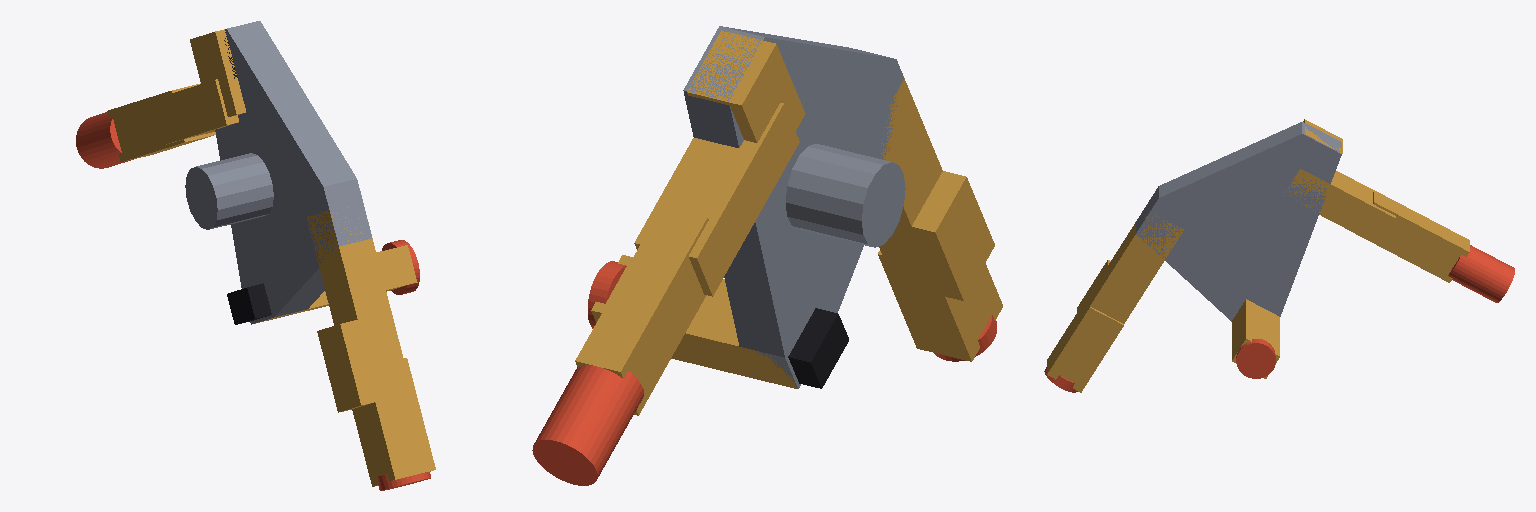
robot.urdf — g0050_c06:
<robot name="g0050_c06">
  <link name="palm">
    <visual name="palm_palm1">
      <origin xyz="0 0 0" rpy="0 0 0" />
      <geometry>
        <mesh filename="palm_palm1.obj" />
      </geometry>
      <material name="palm_palm1_mat">
        <color rgba="0.55 0.57 0.62 1" />
      </material>
    </visual>
    <collision>
      <origin xyz="0 0 0" rpy="0 0 0" />
      <geometry>
        <mesh filename="palm_palm1.obj" />
      </geometry>
    </collision>
    <visual name="palm_mount2">
      <origin xyz="0 0 0" rpy="0 0 0" />
      <geometry>
        <mesh filename="palm_mount2.obj" />
      </geometry>
      <material name="palm_mount2_mat">
        <color rgba="0.55 0.57 0.62 1" />
      </material>
    </visual>
    <collision>
      <origin xyz="0 0 0" rpy="0 0 0" />
      <geometry>
        <mesh filename="palm_mount2.obj" />
      </geometry>
    </collision>
    <visual name="palm_motor3">
      <origin xyz="0 -0.07625 0.00649519053" rpy="1.57079633 -0.523598776 -1.57079633" />
      <geometry>
        <box size="0.029 0.034 0.02" />
      </geometry>
      <material name="palm_motor3_mat">
        <color rgba="0.15 0.15 0.17 1" />
      </material>
    </visual>
    <collision>
      <origin xyz="0 -0.07625 0.00649519053" rpy="1.57079633 -0.523598776 -1.57079633" />
      <geometry>
        <box size="0.029 0.034 0.02" />
      </geometry>
    </collision>
    <visual name="palm_motor4">
      <origin xyz="-0.007 -3.97715715e-19 -0.08" rpy="3.14159265 -0.523598776 -1.57079633" />
      <geometry>
        <box size="0.029 0.034 0.02" />
      </geometry>
      <material name="palm_motor4_mat">
        <color rgba="0.15 0.15 0.17 1" />
      </material>
    </visual>
    <collision>
      <origin xyz="-0.007 -3.97715715e-19 -0.08" rpy="3.14159265 -0.523598776 -1.57079633" />
      <geometry>
        <box size="0.029 0.034 0.02" />
      </geometry>
    </collision>
    <visual name="palm_motor5">
      <origin xyz="-0.0045 0.0467548095 0.0666996732" rpy="1.57079633 1.04719755 -1.57079633" />
      <geometry>
        <box size="0.029 0.034 0.02" />
      </geometry>
      <material name="palm_motor5_mat">
        <color rgba="0.15 0.15 0.17 1" />
      </material>
    </visual>
    <collision>
      <origin xyz="-0.0045 0.0467548095 0.0666996732" rpy="1.57079633 1.04719755 -1.57079633" />
      <geometry>
        <box size="0.029 0.034 0.02" />
      </geometry>
    </collision>
    <inertial>
      <origin xyz="-1.69313855e-19 -0.00843664004 0.00269412495" rpy="-1.57079633 1.00330801 -1.57079633" />
      <mass value="0.729566037" />
      <inertia ixx="0.000885453613" ixy="0" ixz="0" iyy="0.00151368086" iyz="0" izz="0.00232909613" />
    </inertial>
  </link>
  <link name="f0_link0">
    <visual name="f0_link0_link1">
      <origin xyz="0.03375 0 0" rpy="0 4.06369831e-17 0" />
      <geometry>
        <box size="0.0915 0.024 0.033" />
      </geometry>
      <material name="f0_link0_link1_mat">
        <color rgba="0.80 0.62 0.30 1" />
      </material>
    </visual>
    <collision>
      <origin xyz="0.03375 0 0" rpy="0 4.06369831e-17 0" />
      <geometry>
        <box size="0.0915 0.024 0.033" />
      </geometry>
    </collision>
    <inertial>
      <origin xyz="0.03375 0 0" rpy="0 0 0" />
      <mass value="0.126819" />
      <inertia ixx="1.75961363e-05" ixy="0" ixz="0" iyy="9.99888553e-05" iyz="0" izz="9.45673431e-05" />
    </inertial>
  </link>
  <link name="f0_link1">
    <visual name="f0_link1_link1">
      <origin xyz="0.014 -0.00625 -1.38777878e-17" rpy="0 4.06369831e-17 0" />
      <geometry>
        <box size="0.052 0.0365 0.033" />
      </geometry>
      <material name="f0_link1_link1_mat">
        <color rgba="0.80 0.62 0.30 1" />
      </material>
    </visual>
    <collision>
      <origin xyz="0.014 -0.00625 -1.38777878e-17" rpy="0 4.06369831e-17 0" />
      <geometry>
        <box size="0.052 0.0365 0.033" />
      </geometry>
    </collision>
    <inertial>
      <origin xyz="0.014 -0.00625 0" rpy="0 0 0" />
      <mass value="0.1096095" />
      <inertia ixx="2.21160002e-05" ixy="0" ixz="0" iyy="3.46457361e-05" iyz="0" izz="3.6867612e-05" />
    </inertial>
  </link>
  <link name="f0_link2">
    <visual name="f0_link2_link1">
      <origin xyz="0.02375 0 0" rpy="0 4.06369831e-17 0" />
      <geometry>
        <box size="0.0715 0.029 0.033" />
      </geometry>
      <material name="f0_link2_link1_mat">
        <color rgba="0.80 0.62 0.30 1" />
      </material>
    </visual>
    <collision>
      <origin xyz="0.02375 0 0" rpy="0 4.06369831e-17 0" />
      <geometry>
        <box size="0.0715 0.029 0.033" />
      </geometry>
    </collision>
    <inertial>
      <origin xyz="0.02375 0 0" rpy="0 0 0" />
      <mass value="0.119744625" />
      <inertia ixx="1.92589272e-05" ixy="0" ixz="0" iyy="6.18805296e-05" iyz="0" izz="5.94058074e-05" />
    </inertial>
  </link>
  <link name="f0_link3">
    <visual name="f0_link3_link1">
      <origin xyz="0.009 0 6.9388939e-18" rpy="-1.57079633 -0 -1.57079633" />
      <geometry>
        <cylinder radius="0.0165" length="0.009" />
      </geometry>
      <material name="f0_link3_link1_mat">
        <color rgba="0.85 0.35 0.25 1" />
      </material>
    </visual>
    <collision>
      <origin xyz="0.009 0 6.9388939e-18" rpy="-1.57079633 -0 -1.57079633" />
      <geometry>
        <cylinder radius="0.0165" length="0.009" />
      </geometry>
    </collision>
    <inertial>
      <origin xyz="0.009 0 0" rpy="0 0 0" />
      <mass value="0.046399949" />
      <inertia ixx="5.41970115e-06" ixy="0" ixz="0" iyy="7.09430898e-06" iyz="0" izz="7.09430898e-06" />
    </inertial>
  </link>
  <link name="f1_link0">
    <visual name="f1_link0_link1">
      <origin xyz="0.01875 -6.9388939e-18 0" rpy="2.57628149e-17 5.00633443e-35 2.01712861e-33" />
      <geometry>
        <box size="0.0615 0.033 0.024" />
      </geometry>
      <material name="f1_link0_link1_mat">
        <color rgba="0.80 0.62 0.30 1" />
      </material>
    </visual>
    <collision>
      <origin xyz="0.01875 -6.9388939e-18 0" rpy="2.57628149e-17 5.00633443e-35 2.01712861e-33" />
      <geometry>
        <box size="0.0615 0.033 0.024" />
      </geometry>
    </collision>
    <inertial>
      <origin xyz="0.01875 0 0" rpy="0 0 0" />
      <mass value="0.085239" />
      <inertia ixx="1.18269113e-05" ixy="0" ixz="0" iyy="3.09577393e-05" iyz="0" izz="3.46017066e-05" />
    </inertial>
  </link>
  <link name="f1_link1">
    <visual name="f1_link1_link1">
      <origin xyz="0.01875 -6.9388939e-18 0" rpy="2.57628149e-17 5.00633443e-35 2.01712861e-33" />
      <geometry>
        <box size="0.0615 0.033 0.024" />
      </geometry>
      <material name="f1_link1_link1_mat">
        <color rgba="0.80 0.62 0.30 1" />
      </material>
    </visual>
    <collision>
      <origin xyz="0.01875 -6.9388939e-18 0" rpy="2.57628149e-17 5.00633443e-35 2.01712861e-33" />
      <geometry>
        <box size="0.0615 0.033 0.024" />
      </geometry>
    </collision>
    <inertial>
      <origin xyz="0.01875 0 0" rpy="0 0 0" />
      <mass value="0.085239" />
      <inertia ixx="1.18269113e-05" ixy="0" ixz="0" iyy="3.09577393e-05" iyz="0" izz="3.46017066e-05" />
    </inertial>
  </link>
  <link name="f1_link2">
    <visual name="f1_link2_link1">
      <origin xyz="0.009 -6.9388939e-18 0" rpy="-1.57079633 -0 -1.57079633" />
      <geometry>
        <cylinder radius="0.0165" length="0.009" />
      </geometry>
      <material name="f1_link2_link1_mat">
        <color rgba="0.85 0.35 0.25 1" />
      </material>
    </visual>
    <collision>
      <origin xyz="0.009 -6.9388939e-18 0" rpy="-1.57079633 -0 -1.57079633" />
      <geometry>
        <cylinder radius="0.0165" length="0.009" />
      </geometry>
    </collision>
    <inertial>
      <origin xyz="0.009 0 0" rpy="0 0 0" />
      <mass value="0.046399949" />
      <inertia ixx="5.41970115e-06" ixy="0" ixz="0" iyy="7.09430898e-06" iyz="0" izz="7.09430898e-06" />
    </inertial>
  </link>
  <link name="f2_link0">
    <visual name="f2_link0_link1">
      <origin xyz="-0.00625 0 -0.0165" rpy="0 2.57628149e-17 0" />
      <geometry>
        <box size="0.0365 0.029 0.053" />
      </geometry>
      <material name="f2_link0_link1_mat">
        <color rgba="0.80 0.62 0.30 1" />
      </material>
    </visual>
    <collision>
      <origin xyz="-0.00625 0 -0.0165" rpy="0 2.57628149e-17 0" />
      <geometry>
        <box size="0.0365 0.029 0.053" />
      </geometry>
    </collision>
    <inertial>
      <origin xyz="-0.00625 0 -0.0165" rpy="0 0 0" />
      <mass value="0.098175875" />
      <inertia ixx="2.98618286e-05" ixy="0" ixz="0" iyy="3.38809035e-05" iyz="0" izz="1.778006e-05" />
    </inertial>
  </link>
  <link name="f2_link1">
    <visual name="f2_link1_link1">
      <origin xyz="0.03375 0 1.38777878e-17" rpy="0 2.57628149e-17 0" />
      <geometry>
        <box size="0.0915 0.033 0.029" />
      </geometry>
      <material name="f2_link1_link1_mat">
        <color rgba="0.80 0.62 0.30 1" />
      </material>
    </visual>
    <collision>
      <origin xyz="0.03375 0 1.38777878e-17" rpy="0 2.57628149e-17 0" />
      <geometry>
        <box size="0.0915 0.033 0.029" />
      </geometry>
    </collision>
    <inertial>
      <origin xyz="0.03375 0 0" rpy="0 0 0" />
      <mass value="0.153239625" />
      <inertia ixx="2.46460397e-05" ixy="0" ixz="0" iyy="0.000117652915" iyz="0" izz="0.000120819867" />
    </inertial>
  </link>
  <link name="f2_link2">
    <visual name="f2_link2_link1">
      <origin xyz="0.03375 0 2.08166817e-17" rpy="0 2.57628149e-17 0" />
      <geometry>
        <box size="0.0915 0.024 0.033" />
      </geometry>
      <material name="f2_link2_link1_mat">
        <color rgba="0.80 0.62 0.30 1" />
      </material>
    </visual>
    <collision>
      <origin xyz="0.03375 0 2.08166817e-17" rpy="0 2.57628149e-17 0" />
      <geometry>
        <box size="0.0915 0.024 0.033" />
      </geometry>
    </collision>
    <inertial>
      <origin xyz="0.03375 0 0" rpy="0 0 0" />
      <mass value="0.126819" />
      <inertia ixx="1.75961363e-05" ixy="0" ixz="0" iyy="9.99888553e-05" iyz="0" izz="9.45673431e-05" />
    </inertial>
  </link>
  <link name="f2_link3">
    <visual name="f2_link3_link1">
      <origin xyz="0.029 0 1.04083409e-17" rpy="-1.57079633 -0 -1.57079633" />
      <geometry>
        <cylinder radius="0.0165" length="0.049" />
      </geometry>
      <material name="f2_link3_link1_mat">
        <color rgba="0.85 0.35 0.25 1" />
      </material>
    </visual>
    <collision>
      <origin xyz="0.029 0 1.04083409e-17" rpy="-1.57079633 -0 -1.57079633" />
      <geometry>
        <cylinder radius="0.0165" length="0.049" />
      </geometry>
    </collision>
    <inertial>
      <origin xyz="0.029 0 0" rpy="0 0 0" />
      <mass value="0.106270851" />
      <inertia ixx="1.35696277e-05" ixy="0" ixz="0" iyy="5.30015704e-05" iyz="0" izz="5.30015704e-05" />
    </inertial>
  </link>
  <joint name="f0_j0" type="revolute">
    <parent link="palm" />
    <child link="f0_link0" />
    <origin xyz="0 -0.08 0" rpy="0 1.04719755 -1.57079633" />
    <axis xyz="0 0 1" />
    <limit effort="0.5" lower="-0.523598776" upper="1.57079633" velocity="5" />
    <dynamics damping="0.0775033" friction="0" />
  </joint>
  <joint name="f0_j1" type="revolute">
    <parent link="f0_link0" />
    <child link="f0_link1" />
    <origin xyz="0.07 0 0" rpy="0 0 0" />
    <axis xyz="0 0 1" />
    <limit effort="0.5" lower="-0.523598776" upper="1.57079633" velocity="5" />
    <dynamics damping="0.0775033" friction="0" />
  </joint>
  <joint name="f0_j2" type="revolute">
    <parent link="f0_link1" />
    <child link="f0_link2" />
    <origin xyz="0.03 0 0" rpy="0 0 0" />
    <axis xyz="0 0 1" />
    <limit effort="0.5" lower="-0.523598776" upper="1.57079633" velocity="5" />
    <dynamics damping="0.0775033" friction="0" />
  </joint>
  <joint name="f0_j3" type="revolute">
    <parent link="f0_link2" />
    <child link="f0_link3" />
    <origin xyz="0.05 0 0" rpy="0 0 0" />
    <axis xyz="0 1 6.123234e-17" />
    <limit effort="0.5" lower="-0.523598776" upper="0.523598776" velocity="5" />
    <dynamics damping="0.0775033" friction="0" />
  </joint>
  <joint name="f1_j0" type="revolute">
    <parent link="palm" />
    <child link="f1_link0" />
    <origin xyz="0.0005 0 -0.08" rpy="2.61799388 3.061617e-17 5.30287619e-17" />
    <axis xyz="0 1 6.123234e-17" />
    <limit effort="0.5" lower="-0.523598776" upper="0.523598776" velocity="5" />
    <dynamics damping="0.0775033" friction="0" />
  </joint>
  <joint name="f1_j1" type="revolute">
    <parent link="f1_link0" />
    <child link="f1_link1" />
    <origin xyz="0.04 0 0" rpy="0 0 0" />
    <axis xyz="0 1 6.123234e-17" />
    <limit effort="0.5" lower="-0.523598776" upper="0.523598776" velocity="5" />
    <dynamics damping="0.0775033" friction="0" />
  </joint>
  <joint name="f1_j2" type="revolute">
    <parent link="f1_link1" />
    <child link="f1_link2" />
    <origin xyz="0.04 0 0" rpy="0 0 0" />
    <axis xyz="0 1 6.123234e-17" />
    <limit effort="0.5" lower="-0.523598776" upper="0.523598776" velocity="5" />
    <dynamics damping="0.0775033" friction="0" />
  </joint>
  <joint name="f2_j0" type="revolute">
    <parent link="palm" />
    <child link="f2_link0" />
    <origin xyz="-0.0045 0.04 0.04" rpy="3.14159265 0.523598776 1.57079633" />
    <axis xyz="0 0 1" />
    <limit effort="0.5" lower="-0.523598776" upper="1.57079633" velocity="5" />
    <dynamics damping="0.0775033" friction="0" />
  </joint>
  <joint name="f2_j1" type="revolute">
    <parent link="f2_link0" />
    <child link="f2_link1" />
    <origin xyz="0 0 0" rpy="0 0 0" />
    <axis xyz="0 1 6.123234e-17" />
    <limit effort="0.5" lower="-0.523598776" upper="0.523598776" velocity="5" />
    <dynamics damping="0.0775033" friction="0" />
  </joint>
  <joint name="f2_j2" type="revolute">
    <parent link="f2_link1" />
    <child link="f2_link2" />
    <origin xyz="0.07 0 0" rpy="0 0 0" />
    <axis xyz="0 0 1" />
    <limit effort="0.5" lower="-0.523598776" upper="1.57079633" velocity="5" />
    <dynamics damping="0.0775033" friction="0" />
  </joint>
  <joint name="f2_j3" type="revolute">
    <parent link="f2_link2" />
    <child link="f2_link3" />
    <origin xyz="0.07 0 0" rpy="0 0 0" />
    <axis xyz="0 0 1" />
    <limit effort="0.5" lower="-0.523598776" upper="1.57079633" velocity="5" />
    <dynamics damping="0.0775033" friction="0" />
  </joint>
</robot>

--- What the picture shows (computed from the rendered views, not written in the file) ---
3 views of the same robot in one strip: view 1: azimuth 30°, elevation 25°; view 2: azimuth 150°, elevation 25°; view 3: azimuth 270°, elevation 25° (orthographic).
Model g0050_c06 with 12 links and 11 joints (11 revolute), rooted at palm, posed all joints at 0.
Links seen in each view (by area): view 1: palm, f0_link2, f0_link0, f0_link1, f2_link1, f2_link2, f2_link0, f2_link3, f1_link1; view 2: palm, f2_link2, f2_link1, f2_link3, f0_link1, f0_link2, f2_link0, f0_link0, f1_link0, f1_link2, f1_link1; view 3: palm, f2_link2, f0_link2, f0_link0, f2_link1, f2_link3, f1_link2, f1_link1, f0_link1, f1_link0.
Link boxes in pixels (x1,y1,x2,y2): palm: (185, 21, 371, 324); f0_link2: (352, 358, 435, 486); f0_link0: (307, 207, 399, 352); f0_link1: (317, 314, 403, 412); f2_link1: (151, 79, 238, 144); f2_link2: (107, 83, 215, 161); f2_link0: (190, 29, 245, 116); f2_link3: (76, 112, 133, 168); f1_link1: (309, 245, 417, 310); palm: (683, 26, 905, 388); f2_link2: (575, 206, 708, 415); f2_link1: (634, 103, 799, 296); f2_link3: (532, 365, 643, 485); f0_link1: (879, 171, 994, 300); f0_link2: (878, 251, 1002, 361); f2_link0: (687, 30, 805, 142); f0_link0: (881, 78, 942, 245); f1_link0: (678, 279, 796, 388); f1_link2: (588, 261, 626, 328); f1_link1: (591, 255, 726, 370); palm: (1136, 122, 1341, 321); f2_link2: (1356, 190, 1469, 282); f0_link2: (1047, 293, 1123, 392); f0_link0: (1095, 205, 1183, 315); f2_link1: (1283, 169, 1395, 244); f2_link3: (1448, 245, 1514, 302); f1_link2: (1236, 339, 1275, 378); f1_link1: (1232, 308, 1279, 378); f0_link1: (1077, 260, 1136, 323); f1_link0: (1232, 299, 1279, 335).
Bounding box of the posed robot: 0.146 × 0.3919 × 0.2403 m (x, y, z).
2 mesh visuals loaded from 2 distinct referenced files (2 OBJ).
